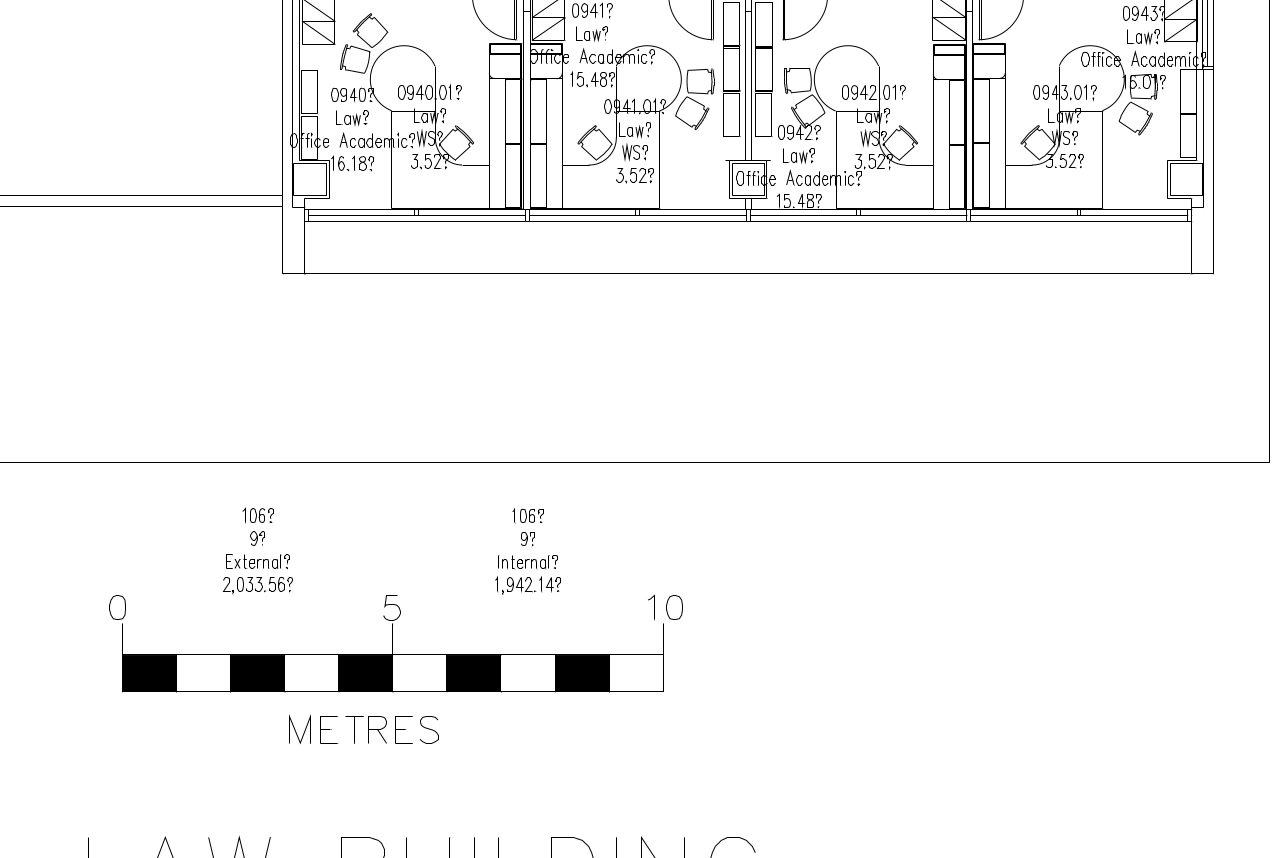door: (465, 1, 518, 44), (662, 1, 715, 44), (781, 1, 834, 44), (975, 1, 1028, 44)
